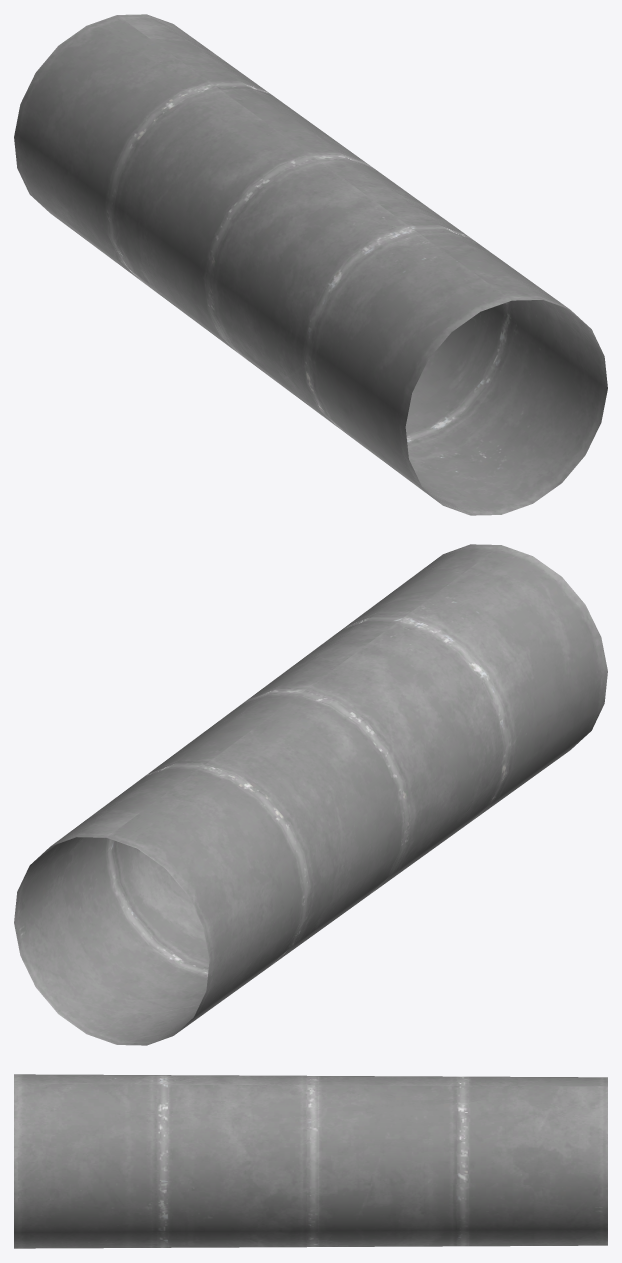
Rendered from SM_Air_Vent_01p.glb.
3 views of the same model, one above another, from view 1: azimuth 30°, elevation 25°; view 2: azimuth 150°, elevation 25°; view 3: azimuth 270°, elevation 25° (orthographic). The views are drawn at different scales.
Parts seen in each view (by area): view 1: SM_Air_Vent_01p; view 2: SM_Air_Vent_01p; view 3: SM_Air_Vent_01p.
Part boxes in pixels (<box>): SM_Air_Vent_01p: <box>14,14,607,515</box>; SM_Air_Vent_01p: <box>14,544,607,1045</box>; SM_Air_Vent_01p: <box>14,1074,607,1248</box>.
Size of the model in its own units: 0.2958 by 0.2958 by 1.
1 material, 1 textured.
